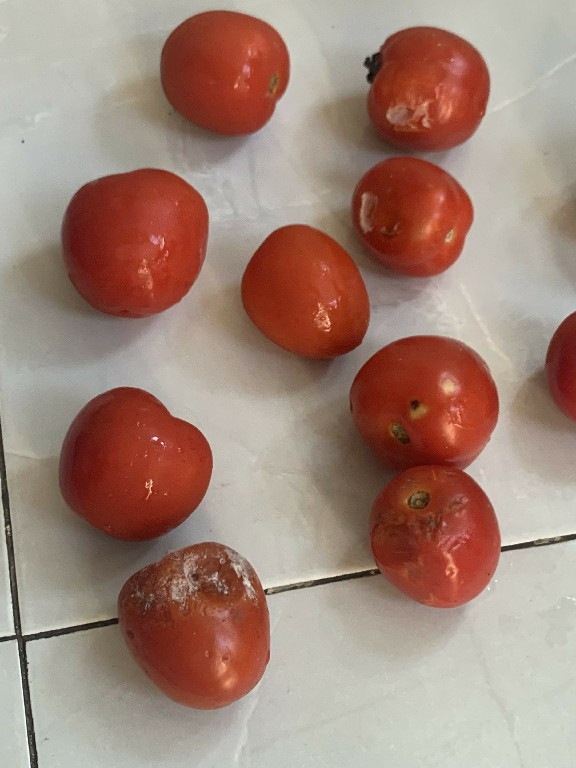NG: (111, 538, 286, 716), (362, 463, 511, 612), (348, 333, 504, 463), (358, 22, 495, 156), (347, 154, 488, 281)
OK: (54, 161, 212, 323), (54, 383, 214, 539), (237, 220, 372, 369), (155, 6, 289, 146)
